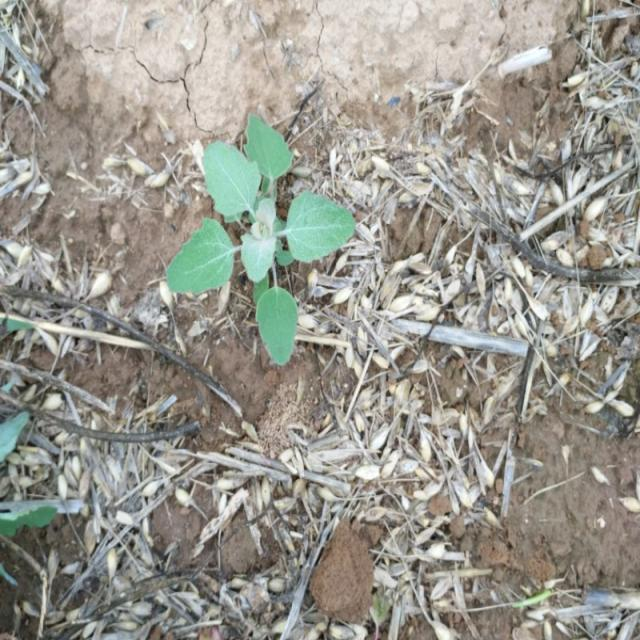goosefoots: (175, 124, 374, 383)
